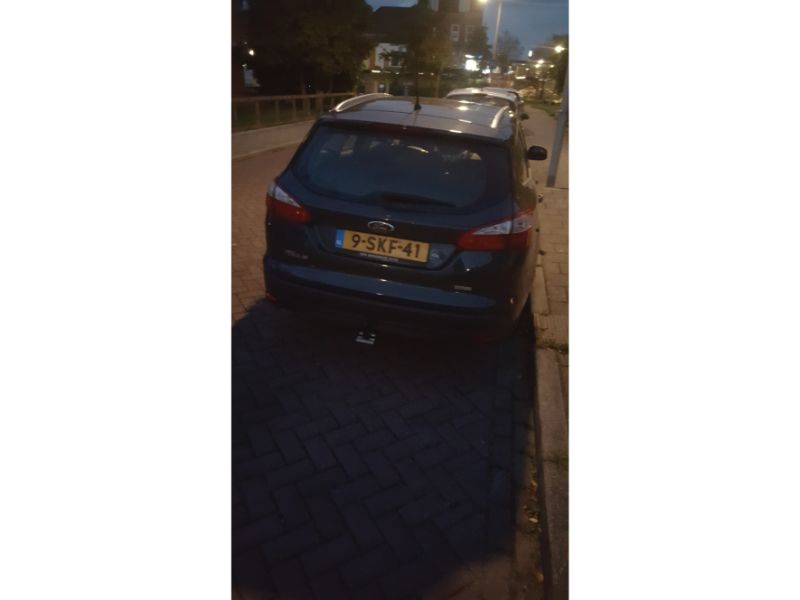kenteken: (330, 224, 434, 270)
